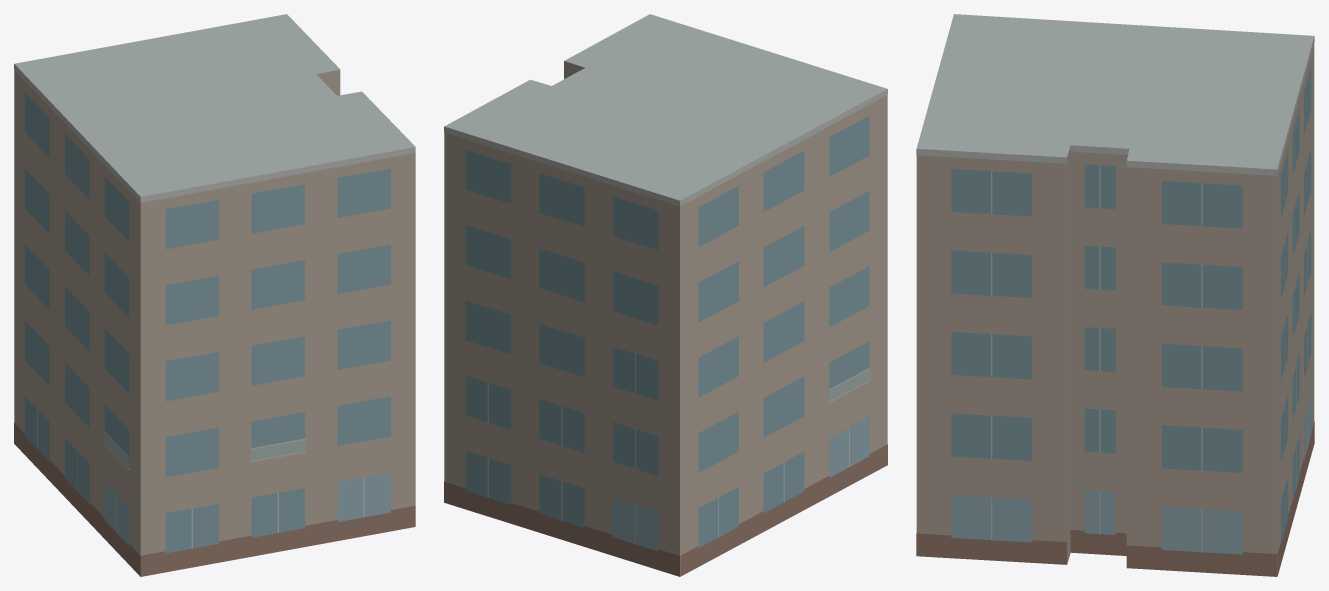
File: survey-upis-32636151.glb
3 renders of one model, left to right at view 1: azimuth 30°, elevation 25°; view 2: azimuth 150°, elevation 25°; view 3: azimuth 270°, elevation 25°, orthographic. The views are drawn at different scales.
Visible parts, largest first — view 1: survey-upis-32636151.tmp; view 2: survey-upis-32636151.tmp; view 3: survey-upis-32636151.tmp.
Part boxes in pixels (x1,y1,x2,y2): survey-upis-32636151.tmp: (14, 14, 415, 576); survey-upis-32636151.tmp: (444, 14, 887, 576); survey-upis-32636151.tmp: (916, 14, 1314, 576).
Size of the model in its own units: 12.78 by 15.6 by 13.82.
